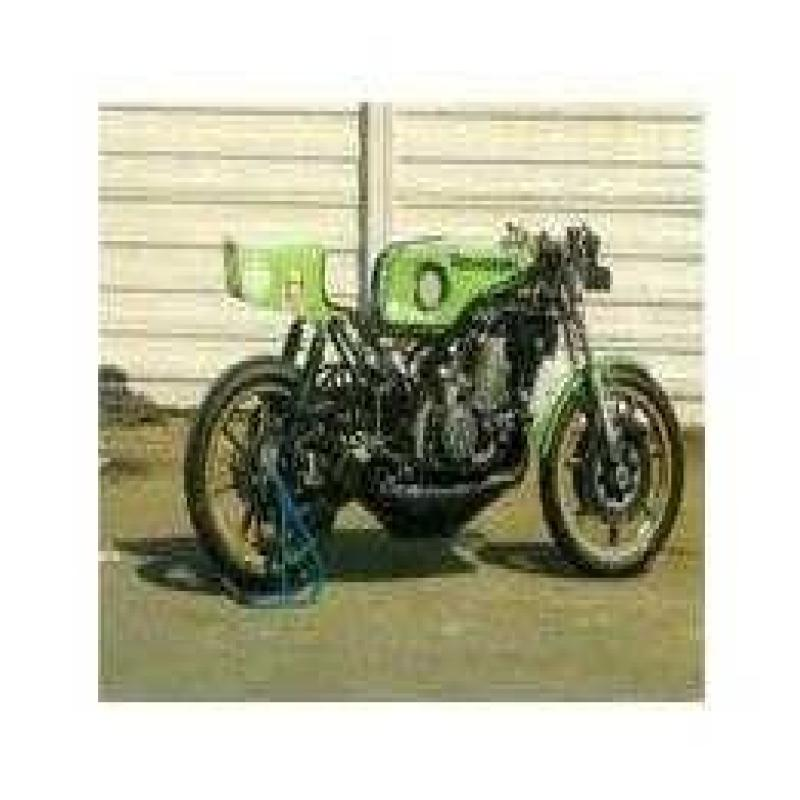bike: (170, 184, 682, 577)
